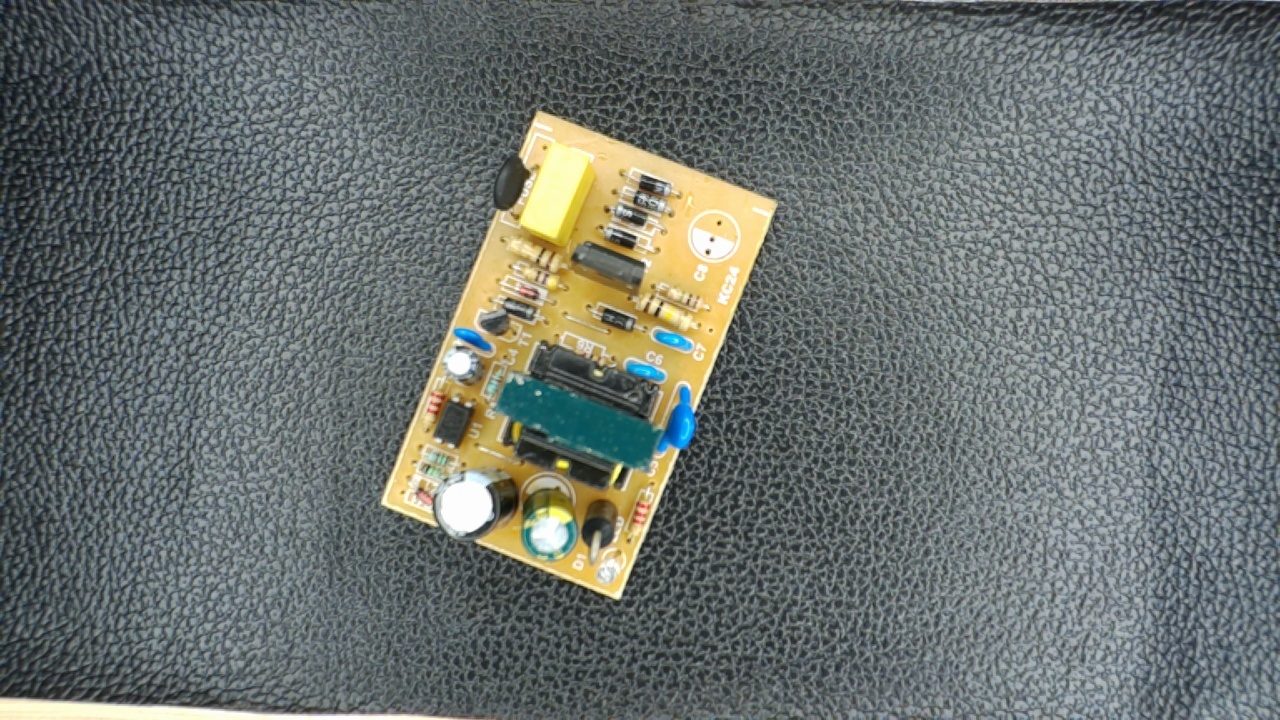fuse: (486, 152, 540, 224)
mov: (653, 378, 699, 459)
optocoupler: (434, 392, 480, 449)
